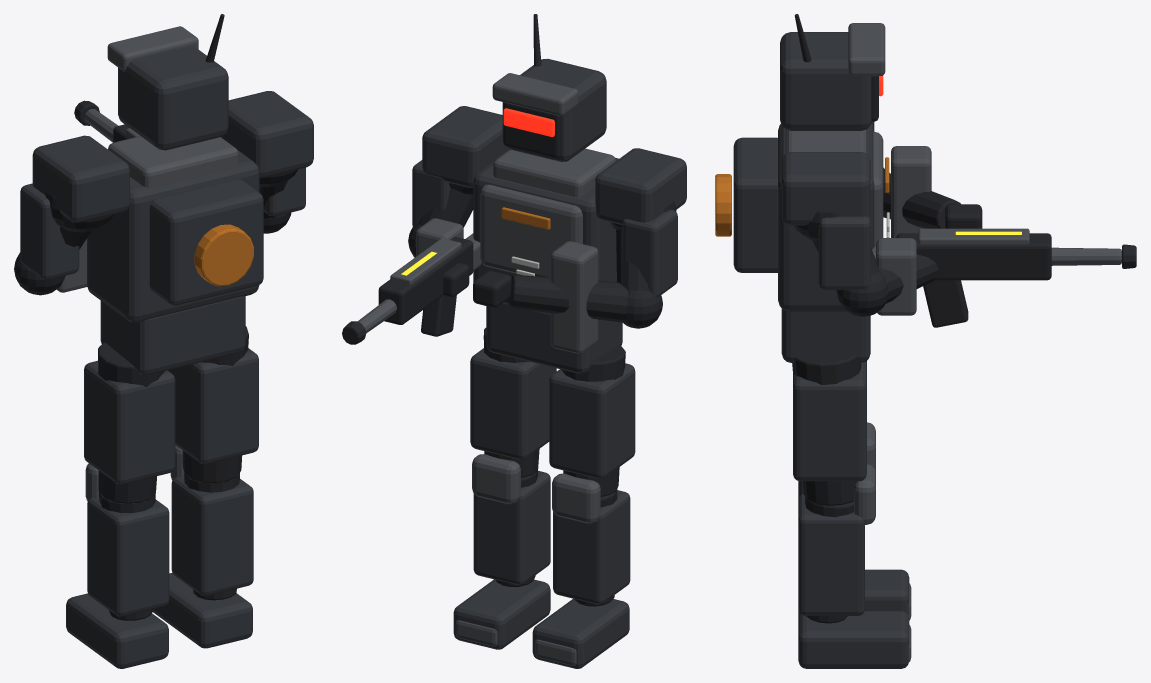
File: sentinel.glb
The picture shows the model from 3 angles, left to right: view 1: azimuth 30°, elevation 25°; view 2: azimuth 150°, elevation 25°; view 3: azimuth 270°, elevation 25°; orthographic projection. The views are drawn at different scales.
Parts seen in each view (by area): view 1: Torso, ShinL, ShinR, ArmL, ThighL, Head, ThighR, ArmR, Pelvis, Gun; view 2: ArmL, Torso, ShinR, ShinL, ThighL, ArmR, Head, ThighR, Gun, Pelvis; view 3: ArmR, Torso, ShinR, Head, ThighR, Gun, ArmL, Pelvis, ShinL.
Boxes of the visible parts, left/top/right/bottom form: Torso: left=87, top=136, right=263, bottom=322; ShinL: left=66, top=463, right=169, bottom=668; ShinR: left=153, top=445, right=253, bottom=648; ArmL: left=14, top=135, right=129, bottom=295; ThighL: left=84, top=342, right=175, bottom=503; Head: left=107, top=14, right=228, bottom=150; ThighR: left=168, top=326, right=258, bottom=483; ArmR: left=221, top=91, right=313, bottom=233; Pelvis: left=100, top=296, right=245, bottom=375; Gun: left=74, top=100, right=139, bottom=142; ArmL: left=473, top=148, right=686, bottom=353; Torso: left=473, top=148, right=618, bottom=320; ShinR: left=453, top=454, right=550, bottom=649; ShinL: left=532, top=473, right=630, bottom=668; ThighL: left=549, top=345, right=635, bottom=496; ArmR: left=408, top=106, right=509, bottom=297; Head: left=492, top=14, right=606, bottom=161; ThighR: left=470, top=328, right=556, bottom=477; Gun: left=342, top=233, right=481, bottom=344; Pelvis: left=486, top=302, right=622, bottom=373; ArmR: left=781, top=152, right=938, bottom=316; Torso: left=715, top=124, right=889, bottom=311; ShinR: left=798, top=464, right=911, bottom=668; Head: left=780, top=14, right=885, bottom=130; ThighR: left=792, top=354, right=866, bottom=505; Gun: left=872, top=228, right=1136, bottom=327; ArmL: left=871, top=121, right=982, bottom=237; Pelvis: left=781, top=308, right=870, bottom=362; ShinL: left=798, top=422, right=911, bottom=620.
Size of the model in its own units: 0.8418 by 1.91 by 1.14.
